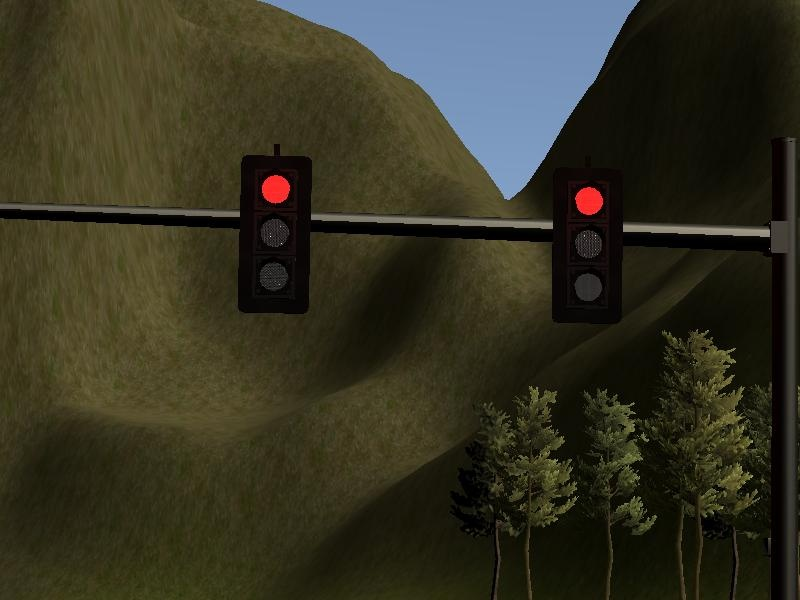red: (237, 151, 314, 321), (547, 165, 627, 327)
